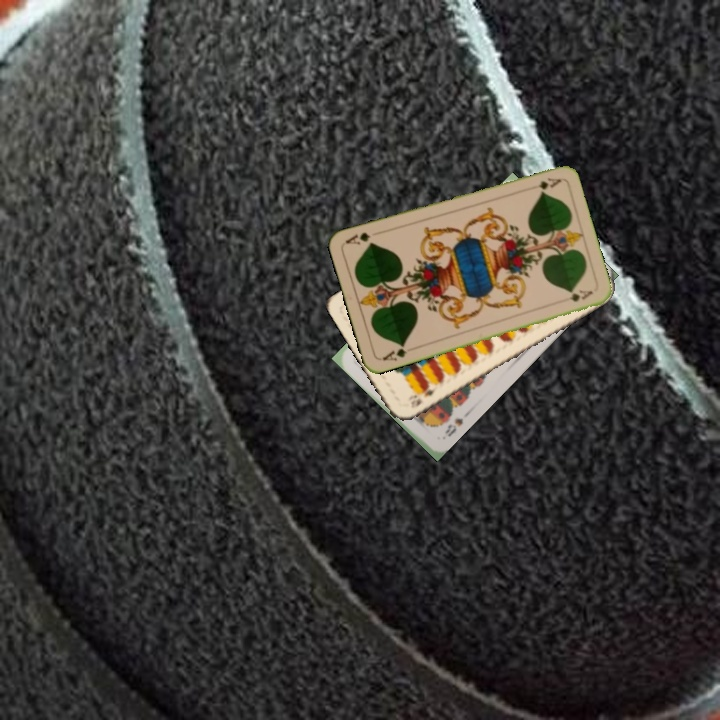E10: (407, 382, 439, 411)
GA: (524, 174, 563, 193), (378, 340, 409, 363)
S8: (440, 414, 466, 439)
